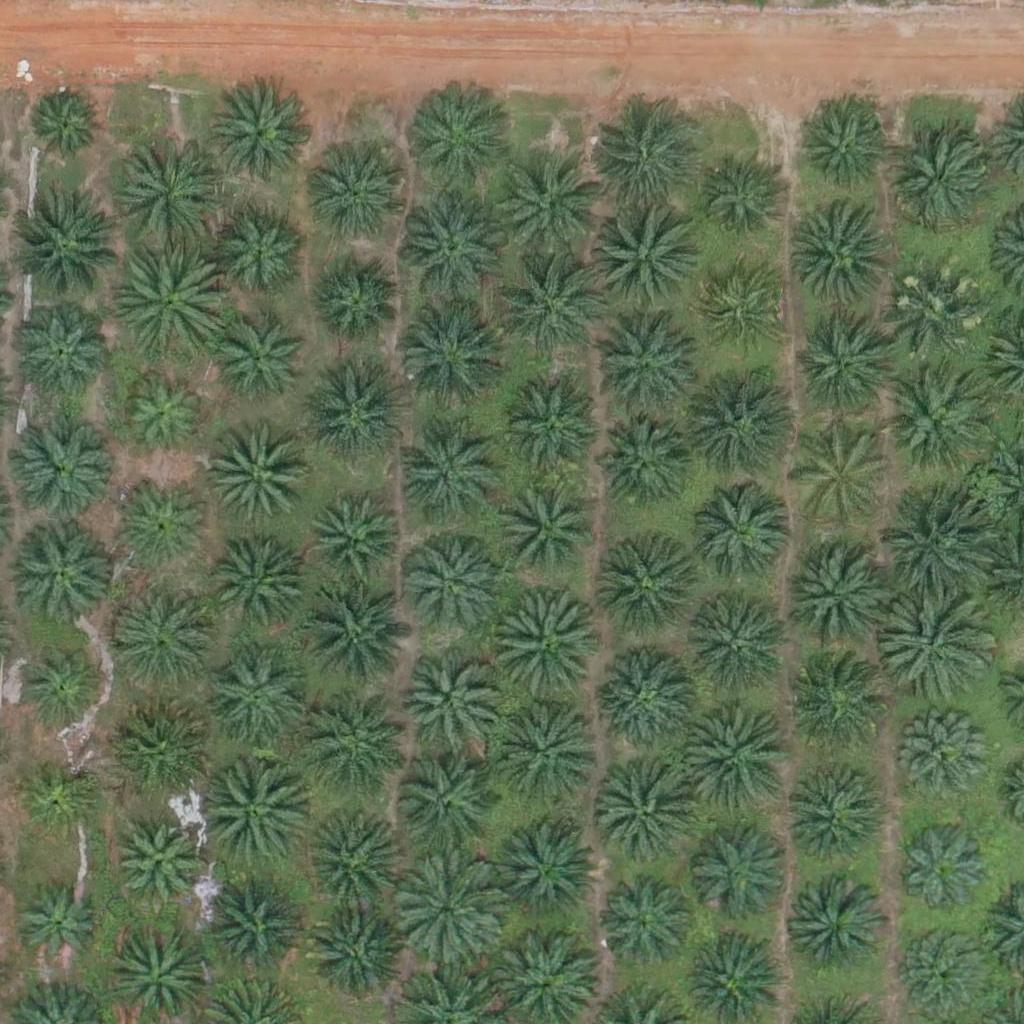Kelapa_Sawit: (8, 197, 121, 311), (390, 296, 503, 410), (118, 146, 231, 259), (190, 753, 303, 866), (389, 191, 502, 304), (489, 591, 602, 704), (491, 146, 604, 259), (585, 202, 698, 315), (681, 698, 794, 811), (118, 249, 230, 363), (397, 408, 509, 522), (687, 588, 799, 702), (880, 587, 992, 701), (880, 495, 992, 609), (110, 580, 222, 693), (299, 580, 411, 693), (403, 82, 515, 195), (390, 852, 502, 965), (491, 695, 603, 808), (494, 250, 606, 363), (584, 109, 696, 222), (691, 370, 803, 483), (790, 537, 902, 650), (10, 523, 110, 624), (122, 699, 222, 800), (210, 89, 310, 190), (205, 434, 305, 535), (204, 646, 304, 747), (195, 875, 295, 976), (298, 806, 398, 907), (308, 706, 408, 807), (304, 361, 404, 462), (308, 140, 408, 241), (402, 533, 502, 634), (399, 649, 499, 750), (497, 814, 597, 915), (499, 376, 599, 477), (498, 480, 598, 581), (595, 315, 695, 416), (592, 537, 692, 638), (598, 645, 698, 746), (597, 770, 697, 871), (690, 822, 790, 923), (697, 481, 797, 582), (791, 203, 891, 304), (788, 427, 888, 528), (783, 657, 883, 758), (787, 772, 887, 873), (788, 880, 888, 981), (888, 127, 988, 228), (885, 275, 985, 376), (10, 300, 110, 400), (12, 421, 112, 521), (210, 532, 310, 632), (392, 756, 492, 856), (592, 415, 692, 515), (790, 318, 890, 418), (896, 819, 996, 919), (886, 374, 986, 474), (299, 903, 399, 1003), (901, 926, 989, 1015), (16, 751, 104, 839), (16, 638, 104, 726), (111, 819, 199, 907), (125, 371, 213, 459), (699, 263, 787, 351), (804, 106, 892, 194), (11, 883, 98, 971), (120, 482, 207, 570), (214, 210, 301, 298), (218, 317, 305, 405), (309, 491, 396, 579), (312, 252, 399, 340), (600, 879, 687, 967), (697, 155, 784, 243), (903, 720, 990, 808), (28, 90, 103, 165)
